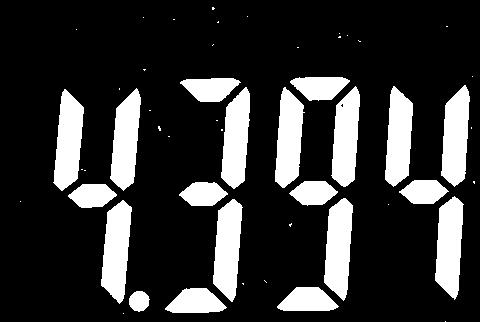3: (163, 75, 254, 316)
4: (380, 85, 473, 303), (54, 84, 142, 311)
9: (269, 74, 365, 317)
dot: (126, 289, 154, 313)
